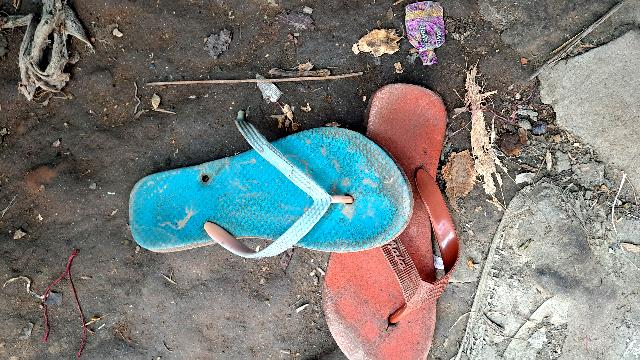sandal: (119, 106, 415, 281), (299, 88, 452, 360)
